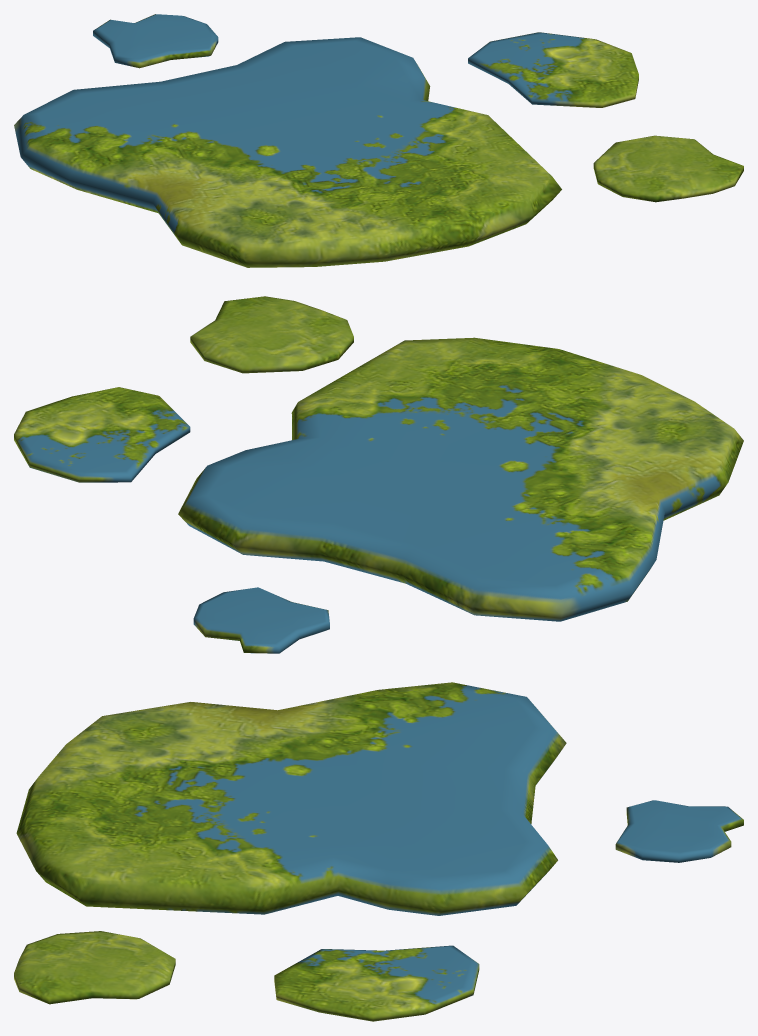
The model's file is SM_Props_43.fbx.
3 renders of one model, top to bottom at view 1: azimuth 30°, elevation 25°; view 2: azimuth 150°, elevation 25°; view 3: azimuth 270°, elevation 25°, orthographic. The views are drawn at different scales.
Parts seen in each view (by area): view 1: SM_Props_43; view 2: SM_Props_43; view 3: SM_Props_43.
Part boxes in pixels (x1=…): SM_Props_43: x1=14, y1=14, x2=743, y2=267; SM_Props_43: x1=14, y1=296, x2=743, y2=653; SM_Props_43: x1=14, y1=682, x2=743, y2=1021.
Size of the model in its own units: 138 by 135 by 7.91.
